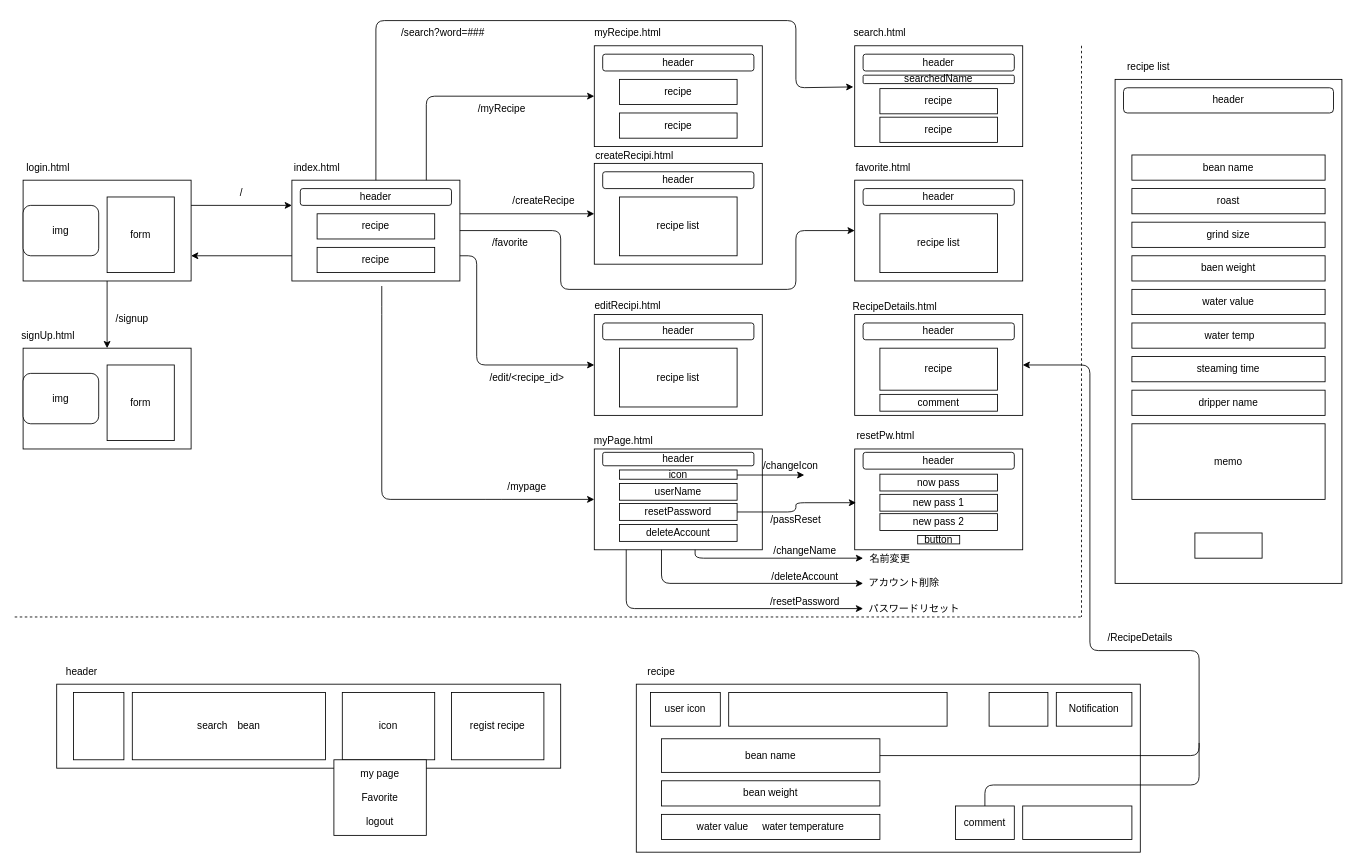
This 1357x867 diagram has some shape labels left out. The centre of each missing label's shape, as x and y in pixels:
Edit: (x=1018, y=709)
Favorite or delete: (x=1077, y=822)
logo: (x=98, y=726)
save: (x=1228, y=545)
user name: (x=837, y=709)
